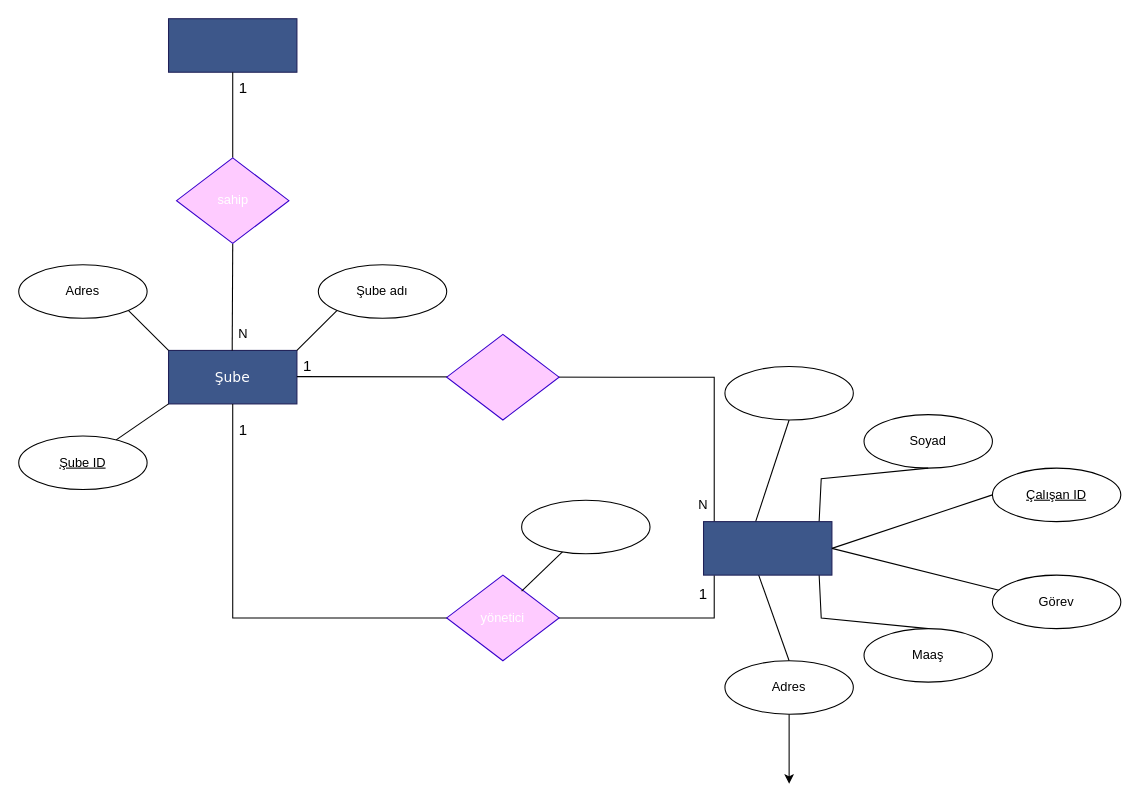
This 1140x811 diagram has some shape labels left out. The shapes that lost their labels are listed below. From the top down, each one's box as (x1, y1, x2, y2) in pixels, then its label:
(167, 18, 297, 72): Şirket
(446, 333, 559, 420): çalışır
(724, 365, 853, 420): Ad
(521, 499, 650, 554): Yönetici ID
(702, 521, 832, 575): Çalışan
